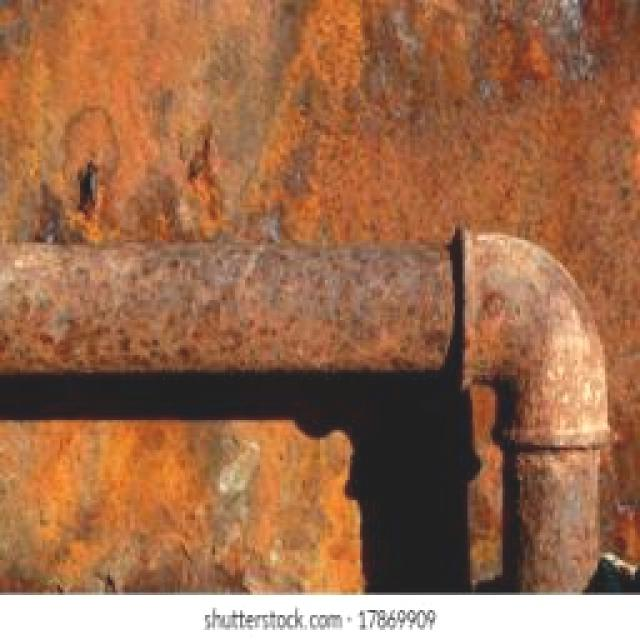rust: (1, 229, 602, 373), (489, 377, 618, 590)
